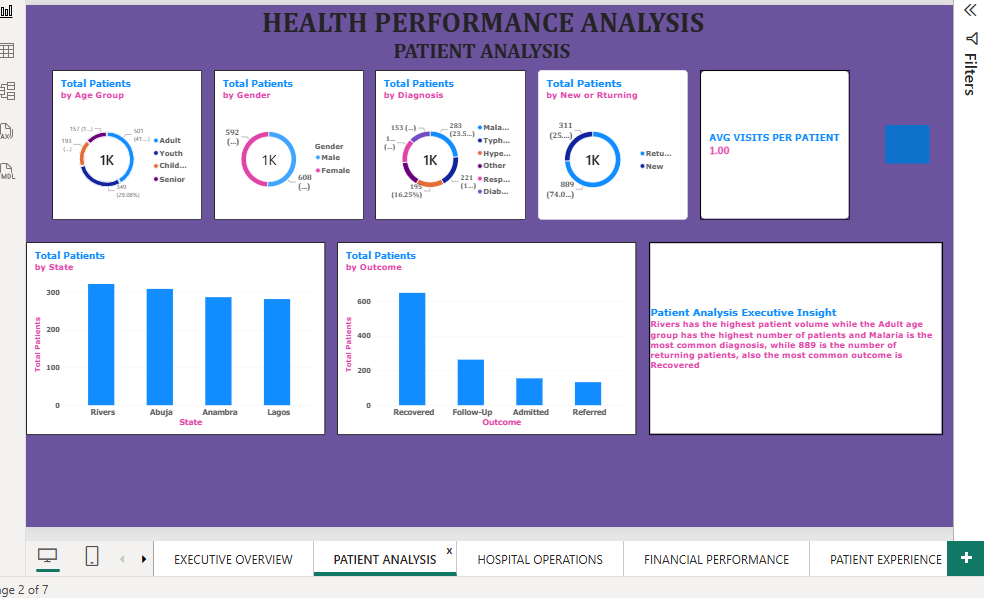

Layout of this report page (visuals, bound fields, positions):
{"tool":"powerbi","page":{"name":"PATIENT ANALYSIS","canvas":[1920,1080],"ordinal":1},"visuals":[{"type":"donutChart","fields":{"Category":["Patient_Visits.Age Group"],"Y":["Date_Table.Total Patients"]},"box":[53.1,134.1,310,310],"z":0},{"type":"donutChart","fields":{"Category":["Patient_Visits.Gender"],"Y":["Date_Table.Total Patients"]},"box":[388.5,134.2,309.7,309.7],"z":1000},{"type":"donutChart","fields":{"Category":["Patient_Visits.Diagnosis"],"Y":["Date_Table.Total Patients"]},"box":[723.5,134.2,311.7,309.7],"z":2000},{"type":"clusteredColumnChart","fields":{"Category":["Patient_Visits.State"],"Y":["Date_Table.Total Patients"]},"box":[0,490.8,620,400],"z":3000},{"type":"textbox","box":[488.8,0,942.4,151.2],"z":4000},{"type":"clusteredColumnChart","fields":{"Category":["Patient_Visits.Outcome"],"Y":["Date_Table.Total Patients"]},"box":[645.1,490.8,620,400],"z":5000},{"type":"cardVisual","fields":{"Data":["Patient_Visits.AVG VISITS PER PATIENT"]},"box":[1395.6,134.2,310,310],"z":6000},{"type":"donutChart","fields":{"Category":["Patient_Visits.New or Rturning "],"Y":["Date_Table.Total Patients"]},"box":[1060.6,134.2,309.7,309.7],"z":7000},{"type":"cardVisual","fields":{"Data":["Date_Table.Executive Insight"]},"box":[1290.4,490.9,608.9,399.7],"z":8000},{"type":"actionButton","box":[1779.6,247.7,92.9,80.5],"z":9000}]}

Visuals, with their boxes in screenshot pixels (x1, y1, x2, y2):
donutChart - Patient_Visits.Age Group x Date_Table.Total Patients: locate(46, 65, 198, 216)
donutChart - Patient_Visits.Gender x Date_Table.Total Patients: locate(210, 65, 361, 216)
donutChart - Patient_Visits.Diagnosis x Date_Table.Total Patients: locate(373, 65, 525, 216)
clusteredColumnChart - Patient_Visits.State x Date_Table.Total Patients: locate(20, 239, 323, 434)
textbox: locate(259, 0, 718, 74)
clusteredColumnChart - Patient_Visits.Outcome x Date_Table.Total Patients: locate(335, 239, 637, 434)
cardVisual - Patient_Visits.AVG VISITS PER PATIENT: locate(701, 65, 852, 217)
donutChart - Patient_Visits.New or Rturning  x Date_Table.Total Patients: locate(538, 65, 689, 216)
cardVisual - Date_Table.Executive Insight: locate(650, 239, 946, 434)
actionButton: locate(888, 121, 933, 160)
